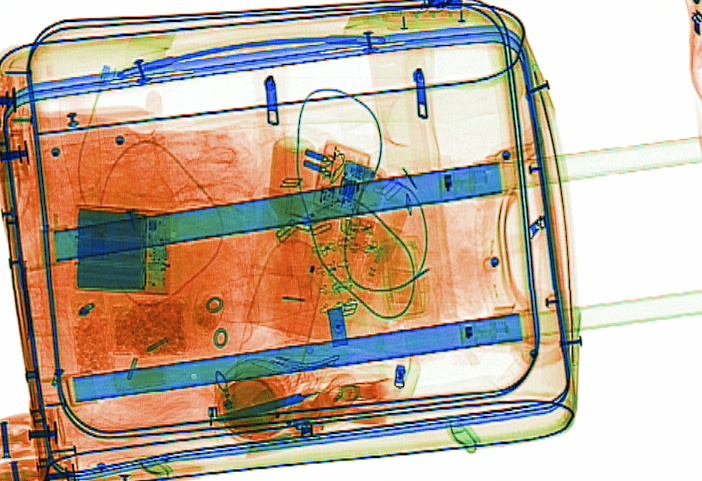powerbank: (69, 202, 173, 297)
